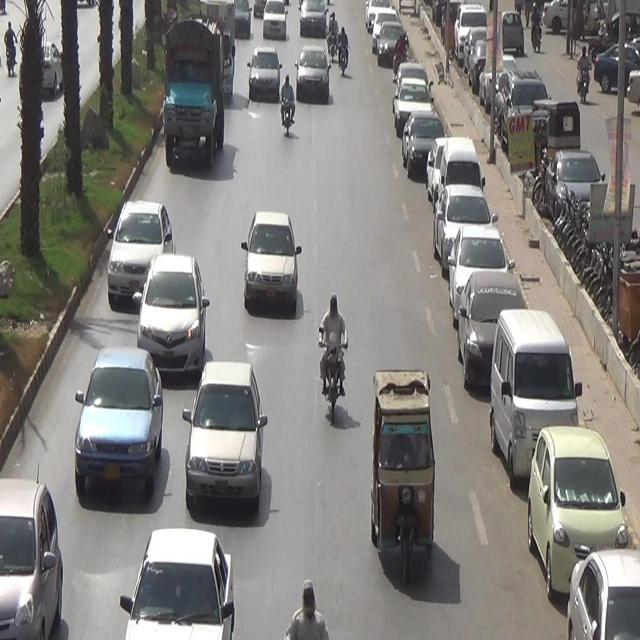car: (68, 350, 173, 510), (111, 522, 246, 640), (185, 356, 274, 526), (0, 468, 71, 635), (135, 258, 215, 369), (102, 196, 176, 302), (232, 210, 302, 314), (290, 42, 330, 102), (251, 49, 287, 109), (261, 3, 287, 47), (297, 0, 327, 31)
motorbike: (314, 297, 351, 416), (277, 81, 303, 152), (323, 10, 344, 58), (337, 36, 351, 80)
truck: (160, 12, 218, 184)
